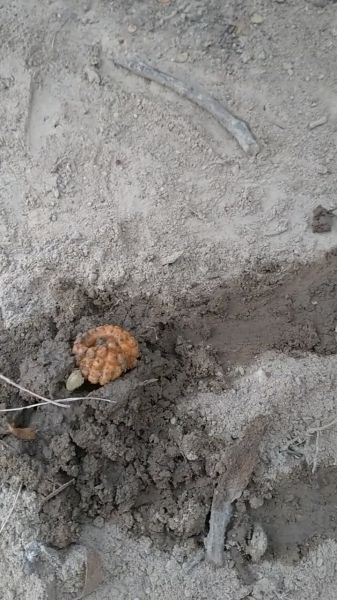eggs: (69, 325, 145, 388)
